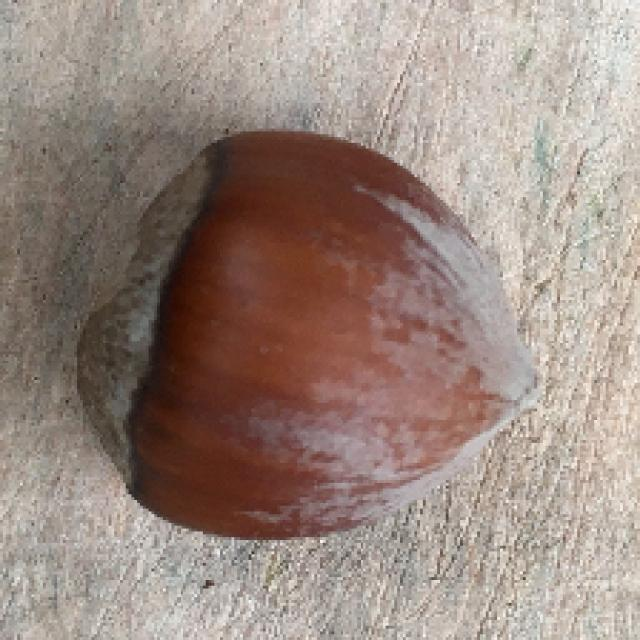qualityHazelnut: (76, 123, 544, 542)
